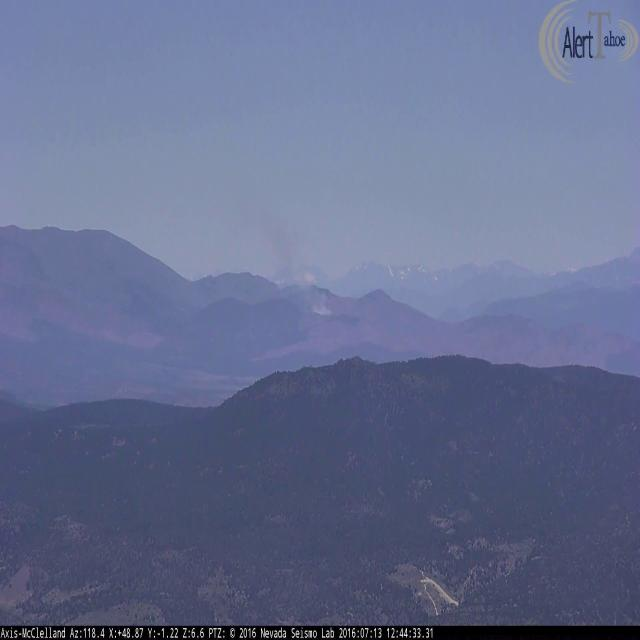smoke: (254, 212, 333, 314)
